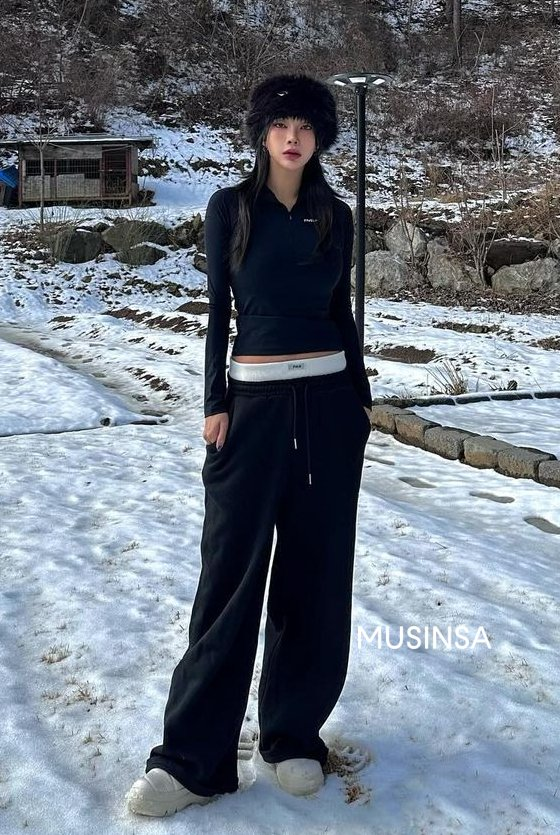Hat: (250, 72, 339, 195)
Pants: (160, 363, 353, 767)
Shoes: (120, 739, 330, 819)
Top: (202, 180, 375, 409)
